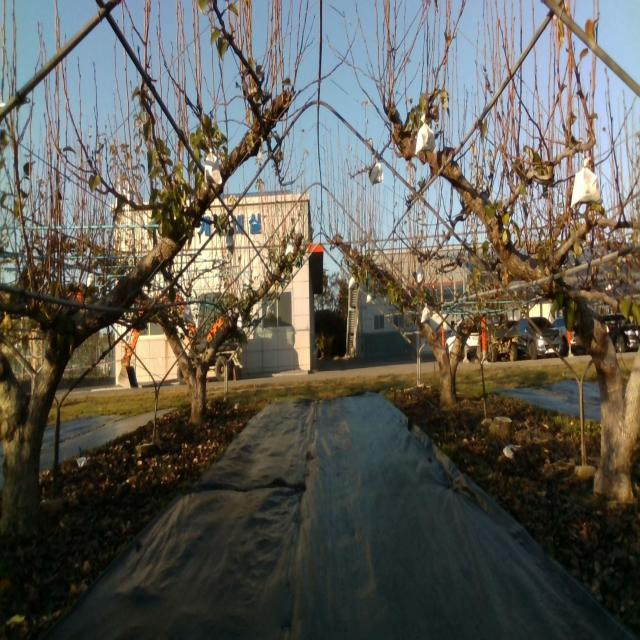pearbags: (570, 158, 604, 208), (414, 114, 438, 157), (205, 148, 222, 189), (372, 161, 384, 186), (182, 304, 194, 324)
